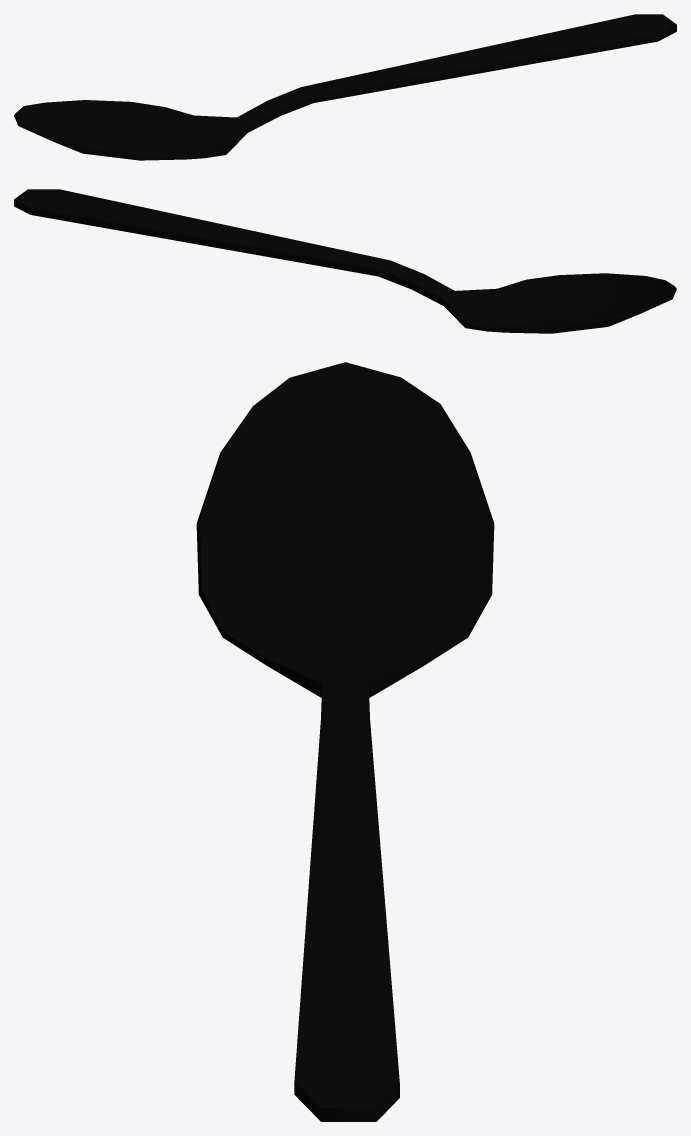
The model's file is Spoon.FBX.
3 renders of one model, top to bottom at view 1: azimuth 30°, elevation 25°; view 2: azimuth 150°, elevation 25°; view 3: azimuth 270°, elevation 25°, orthographic. The views are drawn at different scales.
Visible parts, largest first — view 1: Spoon_LOD0; view 2: Spoon_LOD0; view 3: Spoon_LOD0.
Part boxes in pixels (x1,y1,x2,y2): Spoon_LOD0: (14,14,676,160); Spoon_LOD0: (14,189,676,333); Spoon_LOD0: (196,362,494,1121).
Size of what is drawn, in the model's own units: 19.77 by 1.83 by 3.92.
